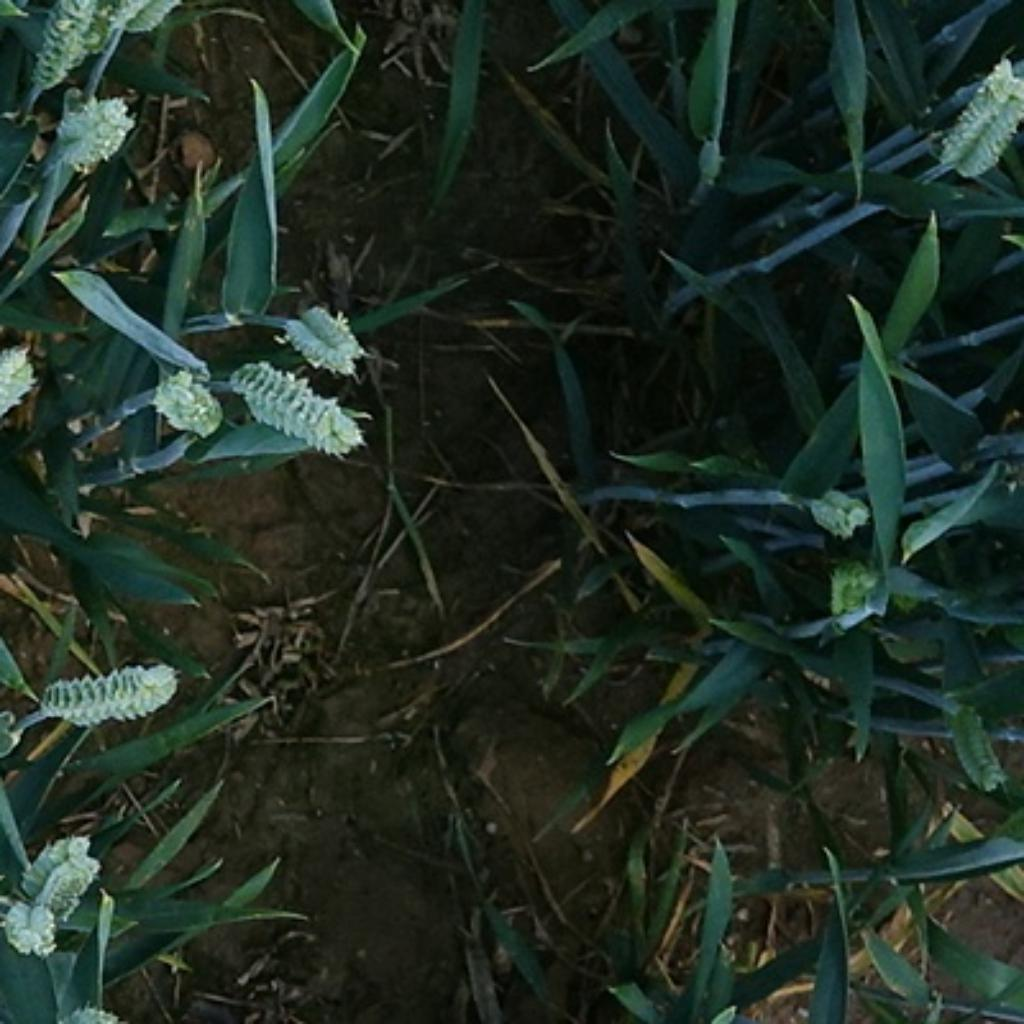0-0: (230, 358, 366, 450), (28, 652, 186, 729), (939, 64, 1022, 179), (15, 824, 107, 924), (46, 84, 143, 174), (17, 2, 112, 89), (947, 696, 1013, 808), (279, 299, 366, 371), (145, 360, 222, 437), (0, 883, 64, 960), (821, 563, 890, 627), (0, 337, 43, 432), (803, 485, 877, 536), (103, 0, 175, 39)
